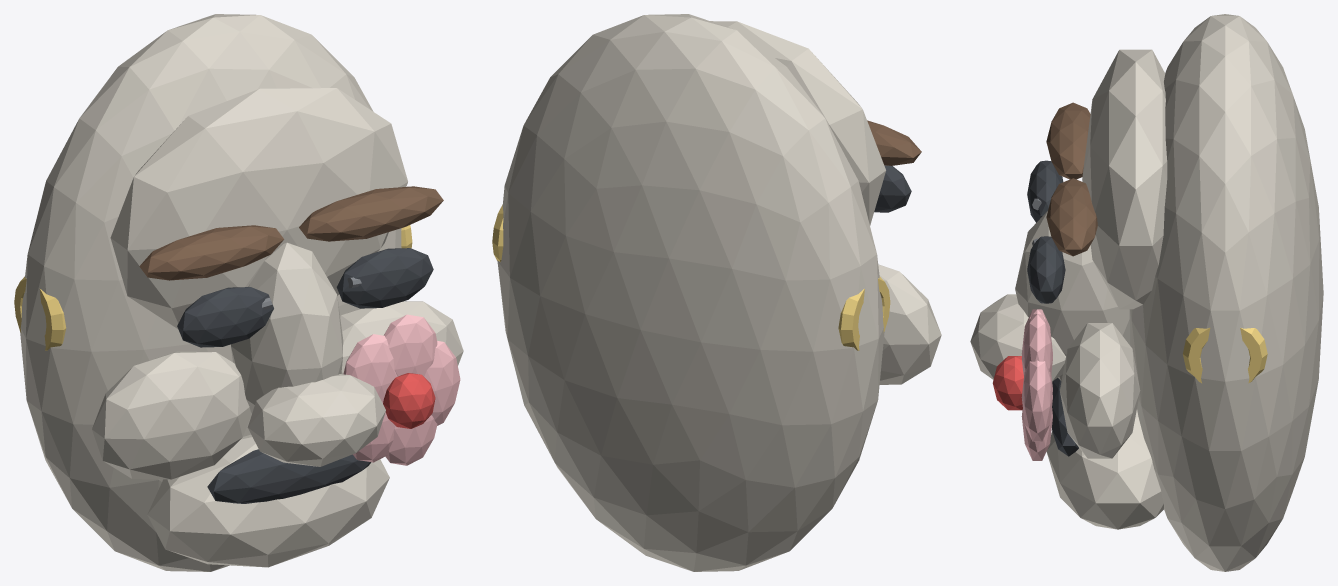
Rendered from noh_koomote_mask.glb.
3 renders of one model, left to right at view 1: azimuth 30°, elevation 25°; view 2: azimuth 150°, elevation 25°; view 3: azimuth 270°, elevation 25°, orthographic. The views are drawn at different scales.
Visible parts, largest first — view 1: Noh hand carved 0 substantial face blank, Noh hand carved 0 sculpted forehead, Noh hand carved 0 chin, Noh hand carved 0 carved cheek, Noh hand carved 0 nose bridge, Noh hand carved 0 nasal tip, Noh hand carved 0 raised eyebrow.001, Noh hand carved 0 raised eyebrow, Noh hand carved 0 dark mouth, Noh hand carved 0 hollow eye, Noh hand carved 0 hollow eye.001, Noh hand carved 0 carved cheek.001 (+7 smaller); view 2: Noh hand carved 0 substantial face blank, Noh hand carved 0 sculpted forehead, Noh hand carved 0 carved cheek, Noh hand carved 0 ear hook, Noh hand carved 0 raised eyebrow, Noh hand carved 0 hollow eye; view 3: Noh hand carved 0 substantial face blank, Noh hand carved 0 sculpted forehead, Noh hand carved 0 carved cheek.001, Noh hand carved 0 chin, Noh hand carved 0 nose bridge, Noh hand carved 0 nasal tip, Noh hand carved 0 raised eyebrow.001, Noh hand carved 0 raised eyebrow, Noh hand carved 0 delicate painted cheek petal, Noh hand carved 0 hollow eye.001, Noh hand carved 0 ear hook.001, Noh hand carved 0 delicate painted cheek center (+4 smaller).
Boxes of the visible parts, bbox=[...] form: Noh hand carved 0 substantial face blank: bbox=[20, 14, 401, 571]; Noh hand carved 0 sculpted forehead: bbox=[110, 88, 407, 328]; Noh hand carved 0 chin: bbox=[147, 434, 389, 567]; Noh hand carved 0 carved cheek: bbox=[92, 351, 251, 479]; Noh hand carved 0 nose bridge: bbox=[231, 242, 343, 415]; Noh hand carved 0 nasal tip: bbox=[247, 374, 385, 466]; Noh hand carved 0 raised eyebrow.001: bbox=[299, 186, 443, 241]; Noh hand carved 0 raised eyebrow: bbox=[139, 225, 284, 280]; Noh hand carved 0 dark mouth: bbox=[207, 449, 370, 503]; Noh hand carved 0 hollow eye: bbox=[177, 287, 273, 347]; Noh hand carved 0 hollow eye.001: bbox=[336, 248, 433, 308]; Noh hand carved 0 carved cheek.001: bbox=[340, 301, 463, 374]; Noh hand carved 0 substantial face blank: bbox=[497, 14, 884, 571]; Noh hand carved 0 sculpted forehead: bbox=[710, 21, 885, 225]; Noh hand carved 0 carved cheek: bbox=[878, 264, 941, 384]; Noh hand carved 0 ear hook: bbox=[838, 276, 890, 350]; Noh hand carved 0 raised eyebrow: bbox=[867, 120, 921, 165]; Noh hand carved 0 hollow eye: bbox=[874, 165, 911, 212]; Noh hand carved 0 substantial face blank: bbox=[1129, 14, 1323, 571]; Noh hand carved 0 sculpted forehead: bbox=[1082, 49, 1167, 309]; Noh hand carved 0 carved cheek.001: bbox=[1060, 323, 1140, 458]; Noh hand carved 0 chin: bbox=[1046, 410, 1163, 529]; Noh hand carved 0 nose bridge: bbox=[1015, 211, 1129, 380]; Noh hand carved 0 nasal tip: bbox=[970, 294, 1065, 381]; Noh hand carved 0 raised eyebrow.001: bbox=[1046, 178, 1097, 256]; Noh hand carved 0 raised eyebrow: bbox=[1046, 102, 1090, 179]; Noh hand carved 0 delicate painted cheek petal: bbox=[1021, 360, 1052, 441]; Noh hand carved 0 hollow eye.001: bbox=[1027, 236, 1065, 303]; Noh hand carved 0 ear hook.001: bbox=[1183, 328, 1267, 383]; Noh hand carved 0 delicate painted cheek center: bbox=[992, 356, 1023, 410].
Size of the model in its own units: 1.39 by 1.95 by 1.17.
